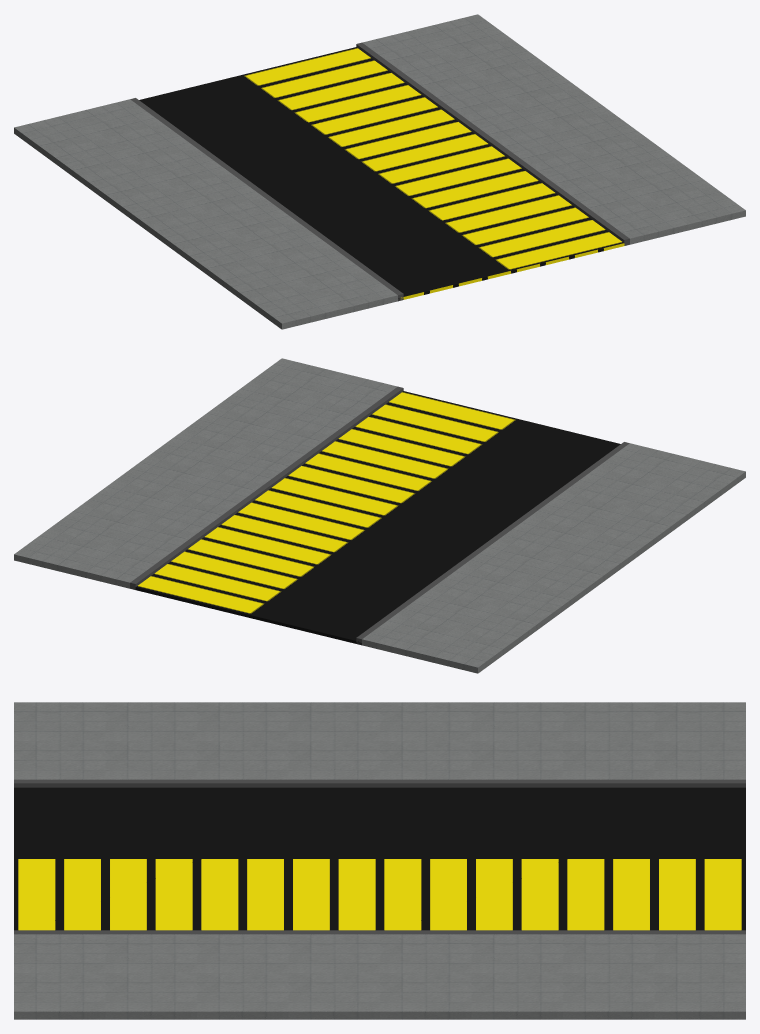
File: RoadStraight_2x2.fbx
3 renders of one model, top to bottom at view 1: azimuth 30°, elevation 25°; view 2: azimuth 150°, elevation 25°; view 3: azimuth 270°, elevation 25°, orthographic. The views are drawn at different scales.
Parts seen in each view (by area): view 1: RoadStraight 2x2.001; view 2: RoadStraight 2x2.001; view 3: RoadStraight 2x2.001.
Part boxes in pixels (x1,y1,x2,y2): RoadStraight 2x2.001: [14, 14, 745, 329]; RoadStraight 2x2.001: [14, 358, 745, 673]; RoadStraight 2x2.001: [14, 702, 745, 1019].
Size of the model in its own units: 16 by 0.2 by 16.
